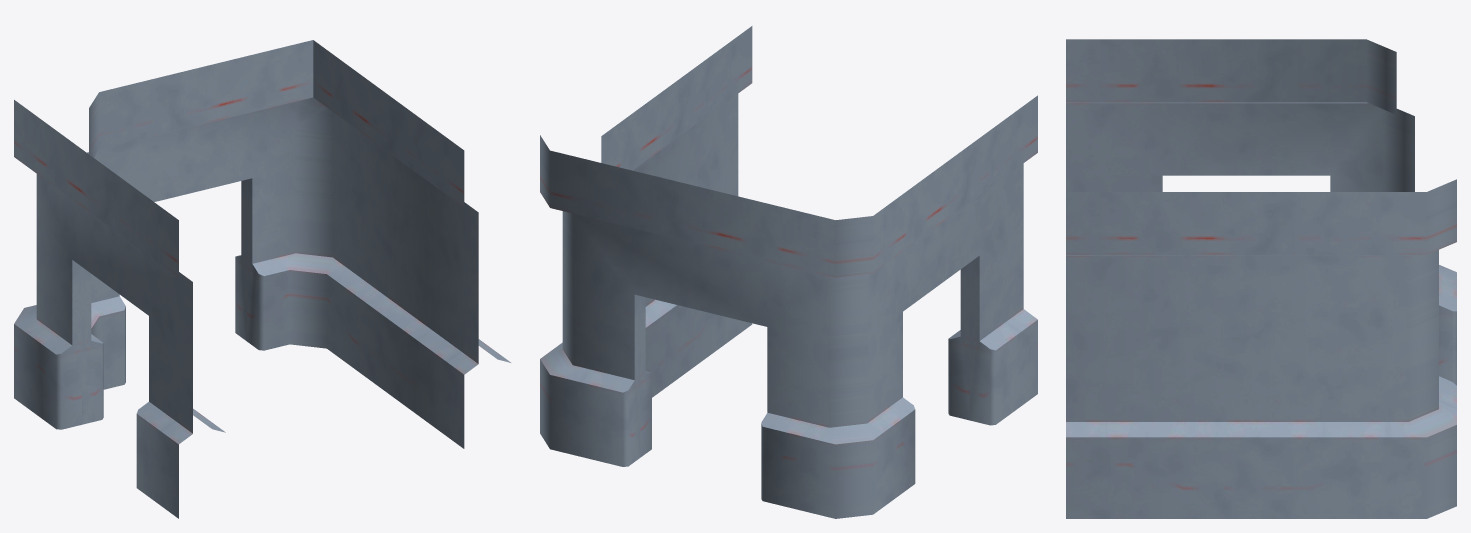
Rendered from Wall_DoorEntrance_End_B_1.glb.
3 renders of one model, left to right at view 1: azimuth 30°, elevation 25°; view 2: azimuth 150°, elevation 25°; view 3: azimuth 270°, elevation 25°, orthographic. The views are drawn at different scales.
Visible parts, largest first — view 1: Wall_DoorEntrance_End_B_1; view 2: Wall_DoorEntrance_End_B_1; view 3: Wall_DoorEntrance_End_B_1.
Part boxes in pixels (box(x1,y1,x2,y2)): Wall_DoorEntrance_End_B_1: box(14, 40, 510, 518); Wall_DoorEntrance_End_B_1: box(540, 26, 1037, 518); Wall_DoorEntrance_End_B_1: box(1066, 39, 1456, 518).
Bounding box in the file's own units: 7 × 6 × 6.5.
Materials: 1 (1 with a texture image).
